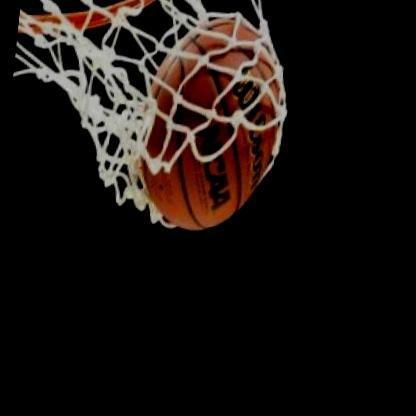basketball: (125, 0, 299, 259)
